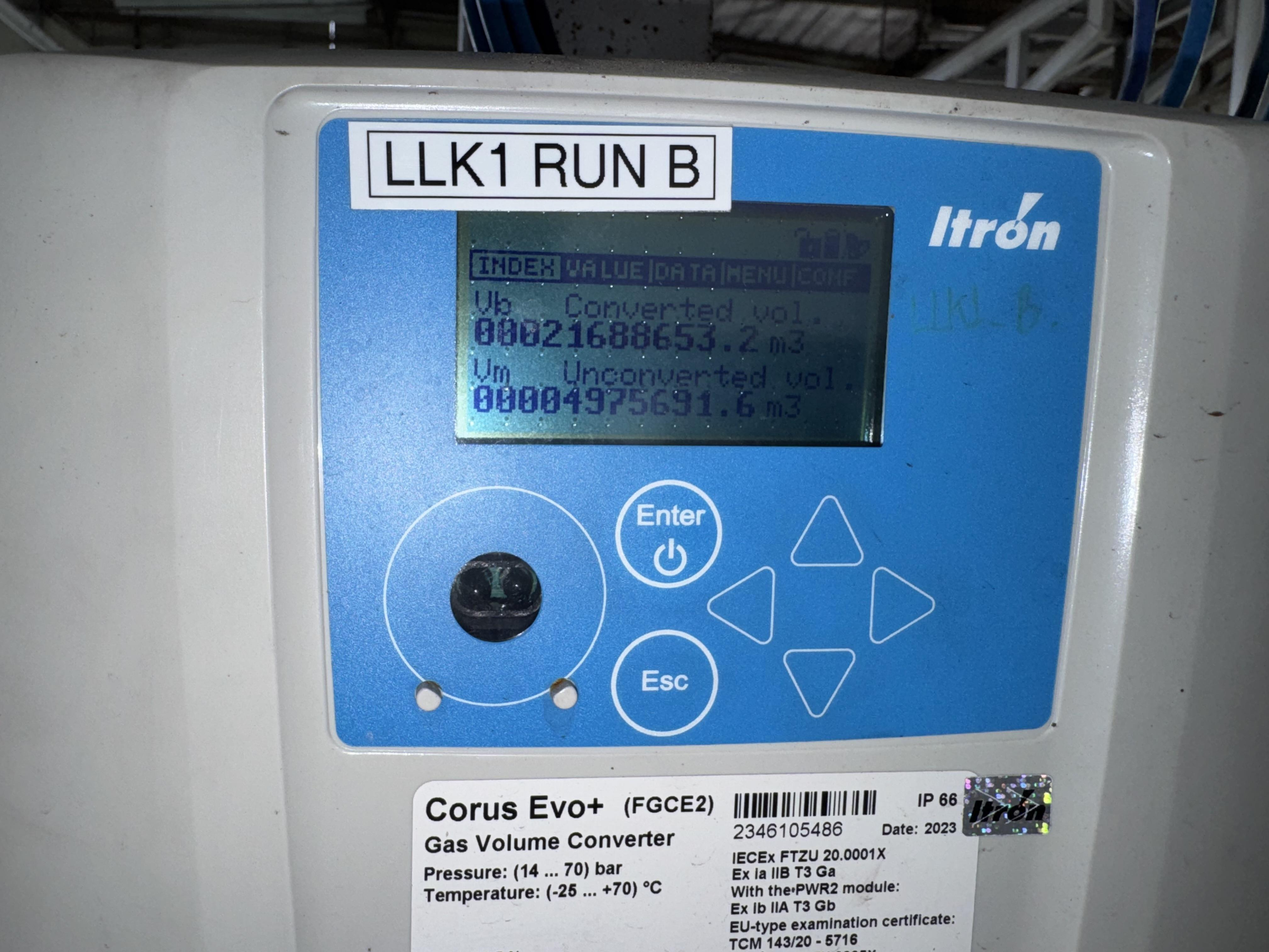digital_screen: (452, 197, 897, 446)
